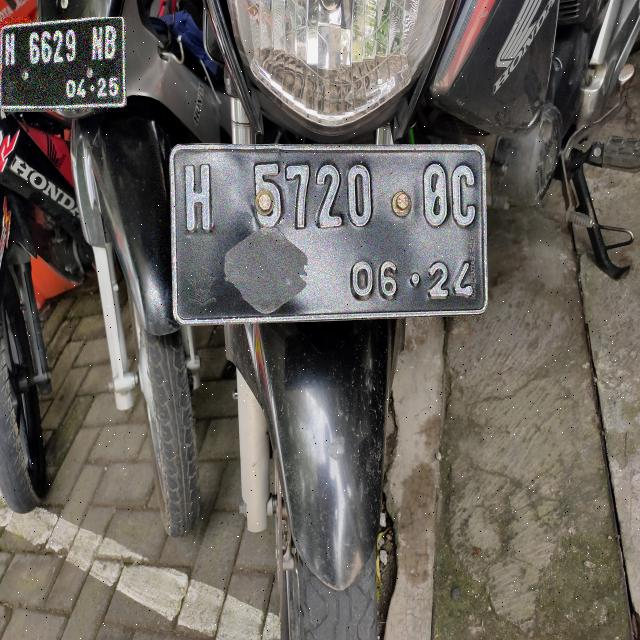plate: (171, 145, 486, 323), (0, 17, 125, 109)
